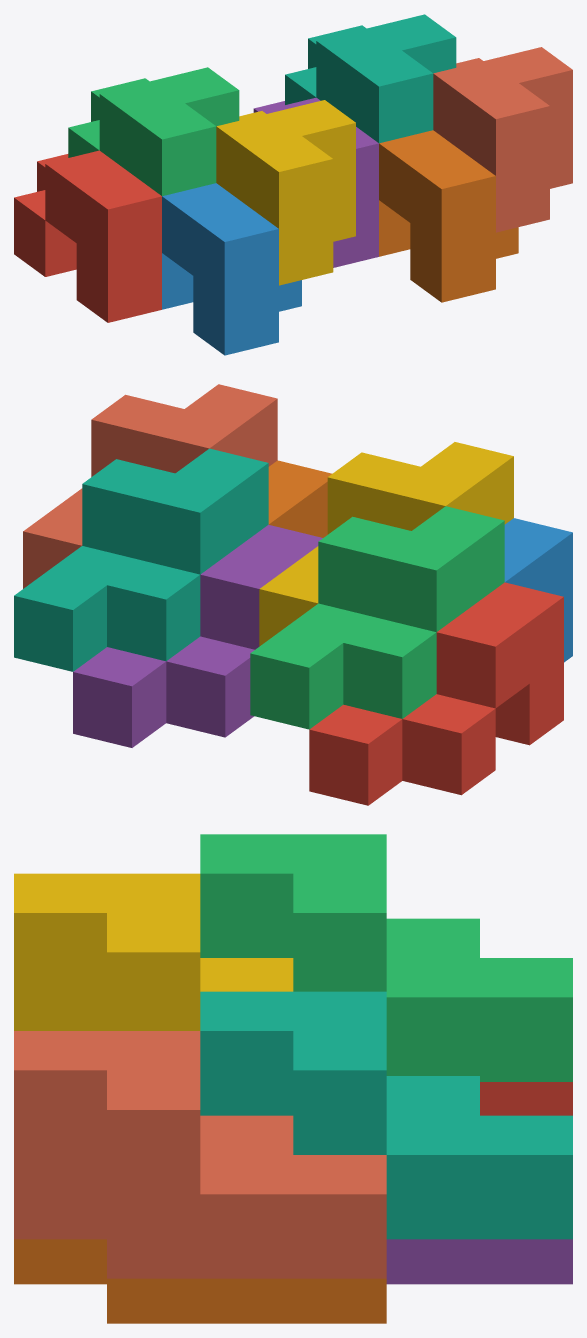
The model's file is tiling.obj.
3 renders of one model, top to bottom at view 1: azimuth 30°, elevation 25°; view 2: azimuth 150°, elevation 25°; view 3: azimuth 270°, elevation 25°, orthographic. The views are drawn at different scales.
Parts seen in each view (by area): view 1: copy_1_domain_1, copy_1_domain_4, copy_1_domain_8, copy_1_domain_2, copy_1_domain_6, copy_1_domain_3, copy_1_domain_7, copy_1_domain_5; view 2: copy_1_domain_7, copy_1_domain_3, copy_1_domain_1, copy_1_domain_5, copy_1_domain_8, copy_1_domain_4, copy_1_domain_2, copy_1_domain_6; view 3: copy_1_domain_8, copy_1_domain_7, copy_1_domain_3, copy_1_domain_4, copy_1_domain_6, copy_1_domain_5, copy_1_domain_1.
Boxes of the visible parts, x1,y1,x2,y2 form: copy_1_domain_1: (14,150,161,322); copy_1_domain_4: (216,100,355,285); copy_1_domain_8: (433,47,572,232); copy_1_domain_2: (162,183,301,355); copy_1_domain_6: (379,130,518,302); copy_1_domain_3: (68,67,239,196); copy_1_domain_7: (285,14,456,143); copy_1_domain_5: (253,97,378,267); copy_1_domain_7: (14,448,268,671); copy_1_domain_3: (250,506,504,729); copy_1_domain_1: (309,582,563,805); copy_1_domain_5: (73,524,322,747); copy_1_domain_8: (23,384,277,588); copy_1_domain_4: (259,442,513,646); copy_1_domain_2: (504,518,572,662); copy_1_domain_6: (268,460,331,537); copy_1_domain_8: (14,1031,386,1278); copy_1_domain_7: (200,991,572,1239); copy_1_domain_3: (200,834,572,1081); copy_1_domain_4: (14,873,293,1030); copy_1_domain_6: (14,1239,386,1323); copy_1_domain_5: (386,1239,572,1284); copy_1_domain_1: (480,1082,572,1115).
Bounding box in the file's own units: 8 × 3 × 6.
